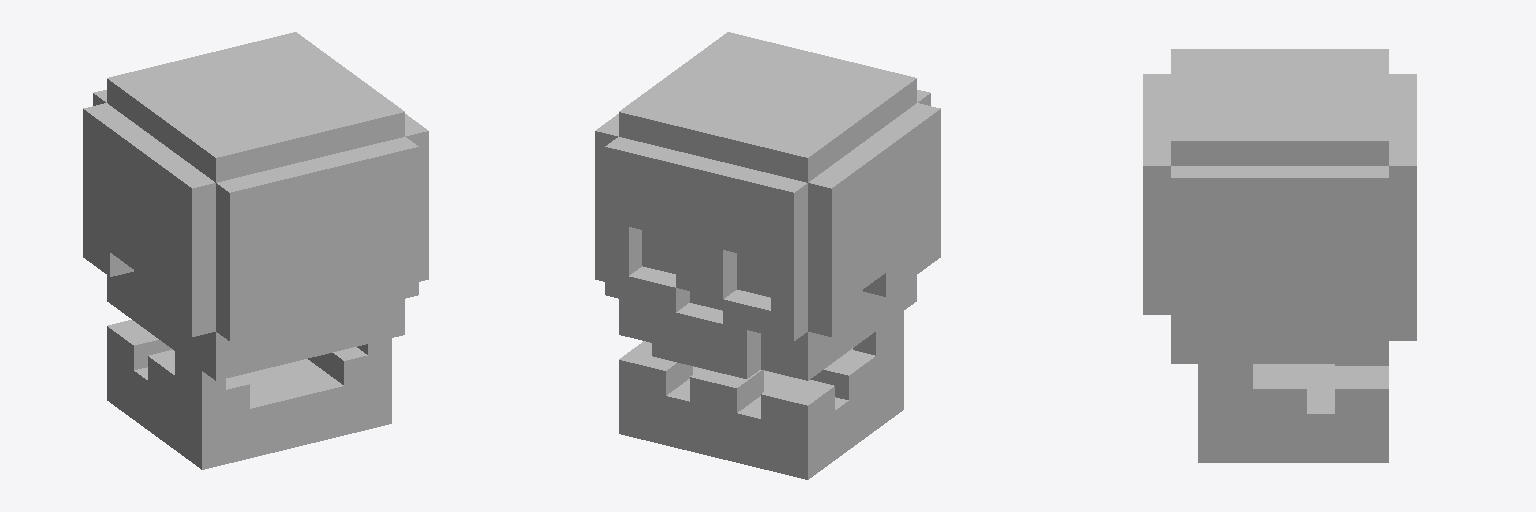
Rendered from skull.obj.
3 views of the same model, side by side, from view 1: azimuth 30°, elevation 25°; view 2: azimuth 150°, elevation 25°; view 3: azimuth 270°, elevation 25° (orthographic).
Parts seen in each view (by area): view 1: cube; view 2: cube; view 3: cube.
Part boxes in pixels (bbox=[...]): cube: bbox=[83, 32, 428, 469]; cube: bbox=[595, 32, 940, 479]; cube: bbox=[1143, 49, 1416, 462].
Size of the model in its own units: 0.625 by 0.8125 by 0.625.